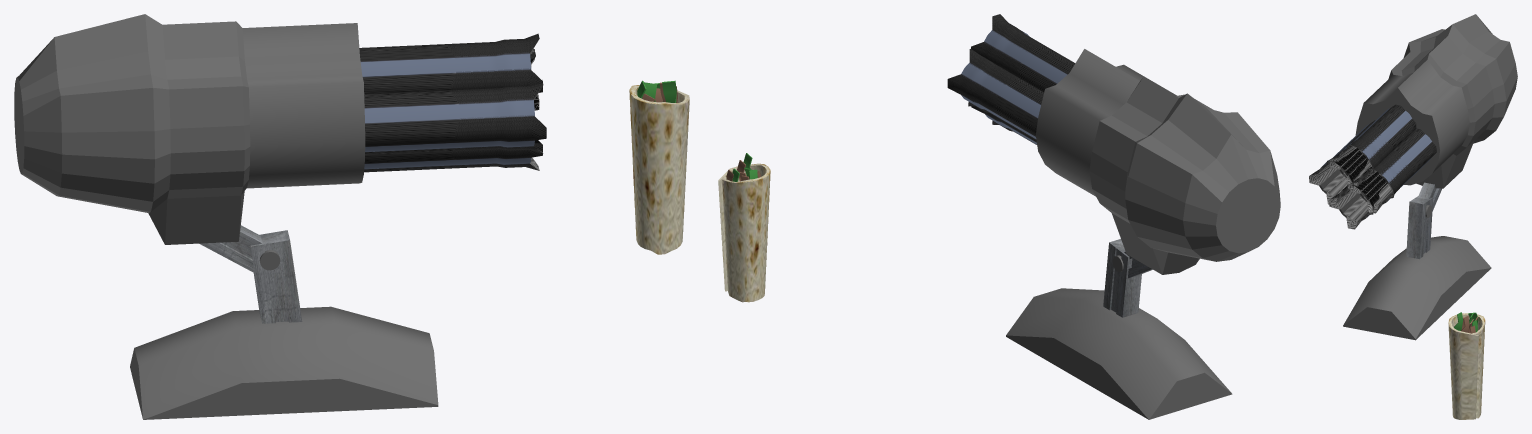
The model's file is DurumCannon.fbx.
3 views of the same model, side by side, from view 1: azimuth 30°, elevation 25°; view 2: azimuth 150°, elevation 25°; view 3: azimuth 270°, elevation 25° (orthographic). The views are drawn at different scales.
Visible parts, largest first — view 1: pCylinder4, pPipe2; view 2: pCylinder4, pPipe2; view 3: pCylinder4, pPipe2.
Boxes of the visible parts, x1,y1,x2,y2 form: pCylinder4: [14, 14, 546, 419]; pPipe2: [629, 80, 689, 254]; pCylinder4: [947, 14, 1280, 419]; pPipe2: [718, 153, 770, 302]; pCylinder4: [1309, 14, 1517, 340]; pPipe2: [1448, 312, 1485, 419].
Size of the model in its own units: 56.45 by 30.6 by 24.22.
9 materials, 3 textured.
